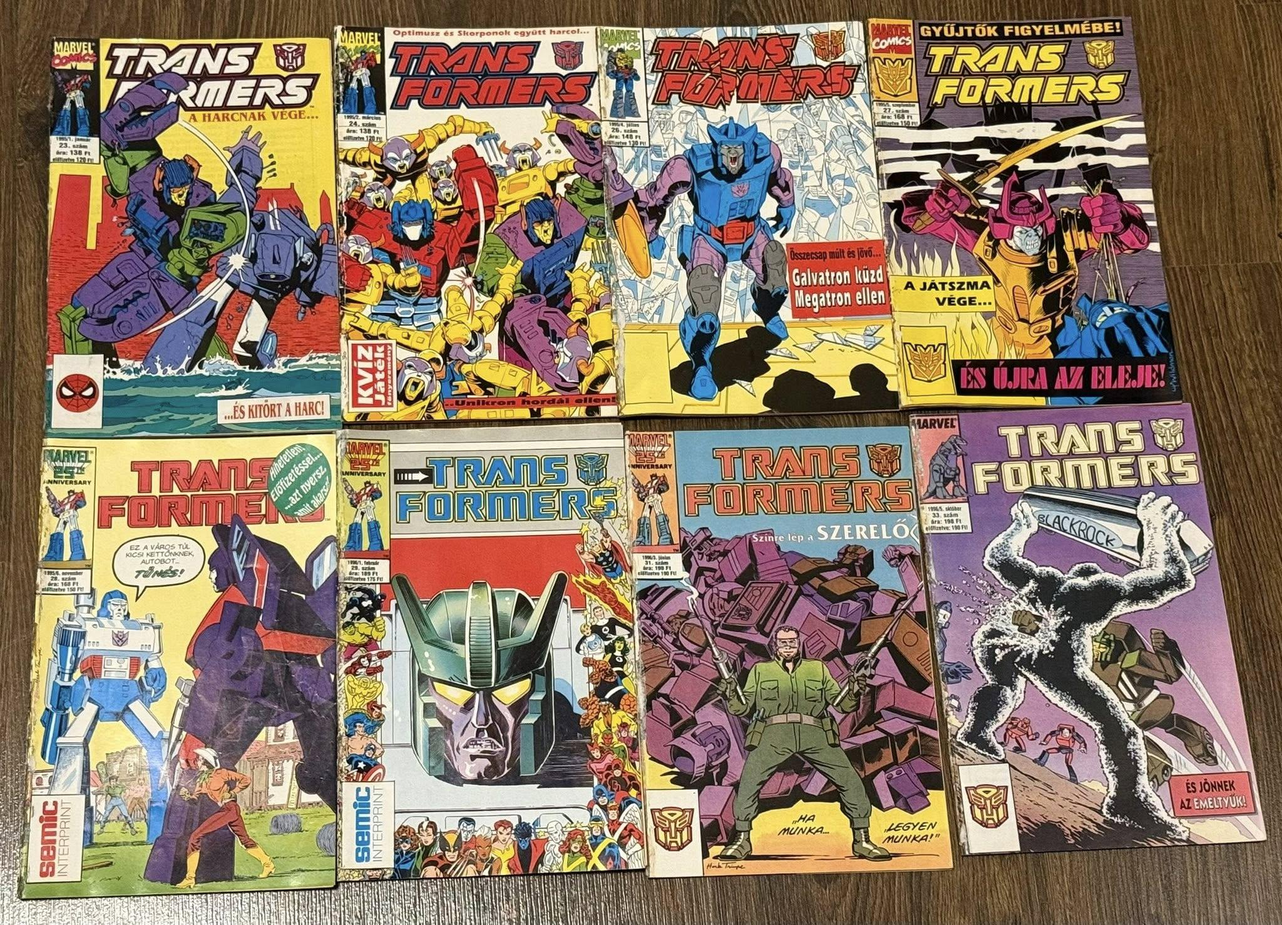comic: (908, 379, 1265, 876), (624, 414, 952, 884), (321, 420, 647, 881), (20, 434, 338, 897), (864, 0, 1181, 426), (598, 12, 898, 424), (46, 39, 339, 436), (333, 20, 617, 423)
